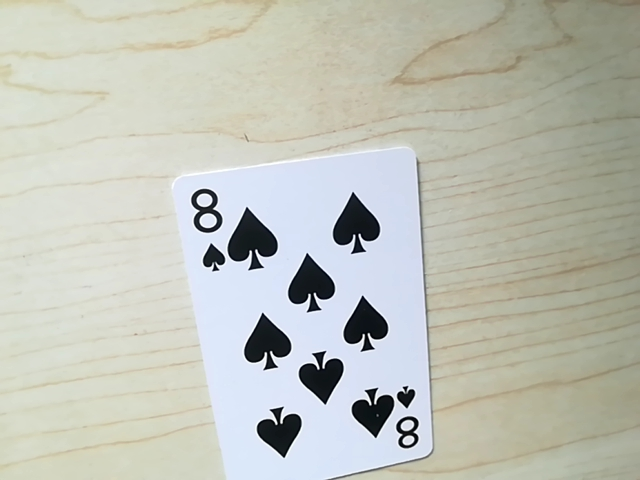ht 8: (182, 179, 229, 271), (384, 399, 429, 461)
